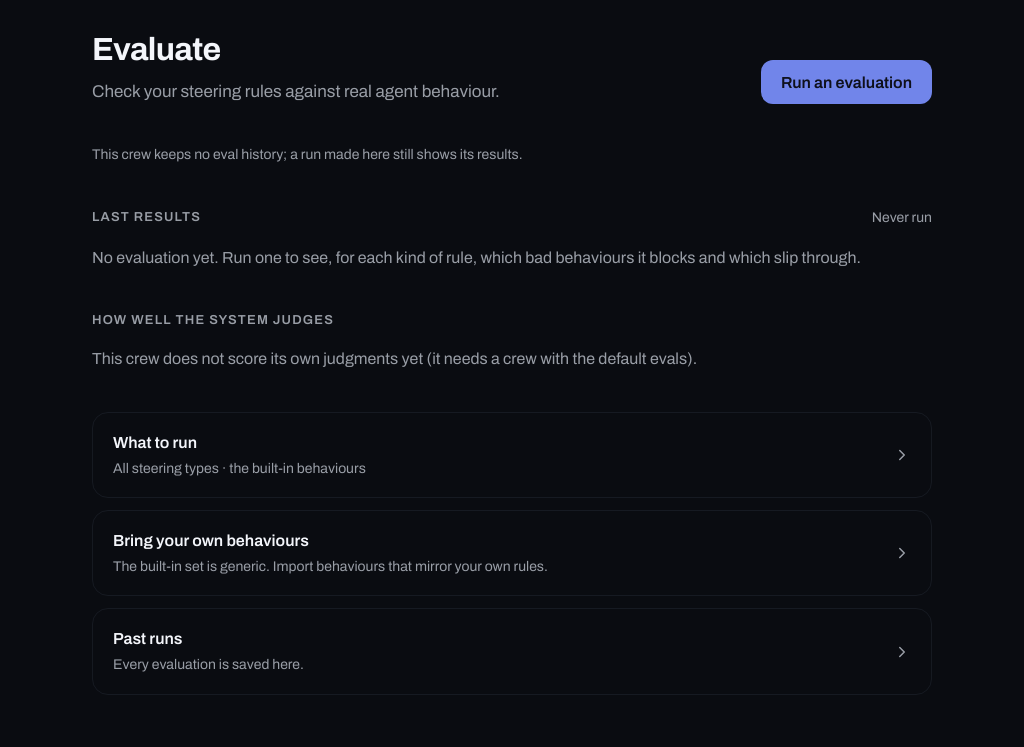
Test case: Evals — the run › POSTs {type, corpus} exactly as pinned and renders summary + table from the report
Type and corpus sit behind the Run tile's "Type and corpus" (DES-steer-eval §3.1).
Step 1. Click the heading with test id "evaluate-options-toggle" → {"x": 155, "y": 442}, box left=113, top=434, right=911, bottom=476
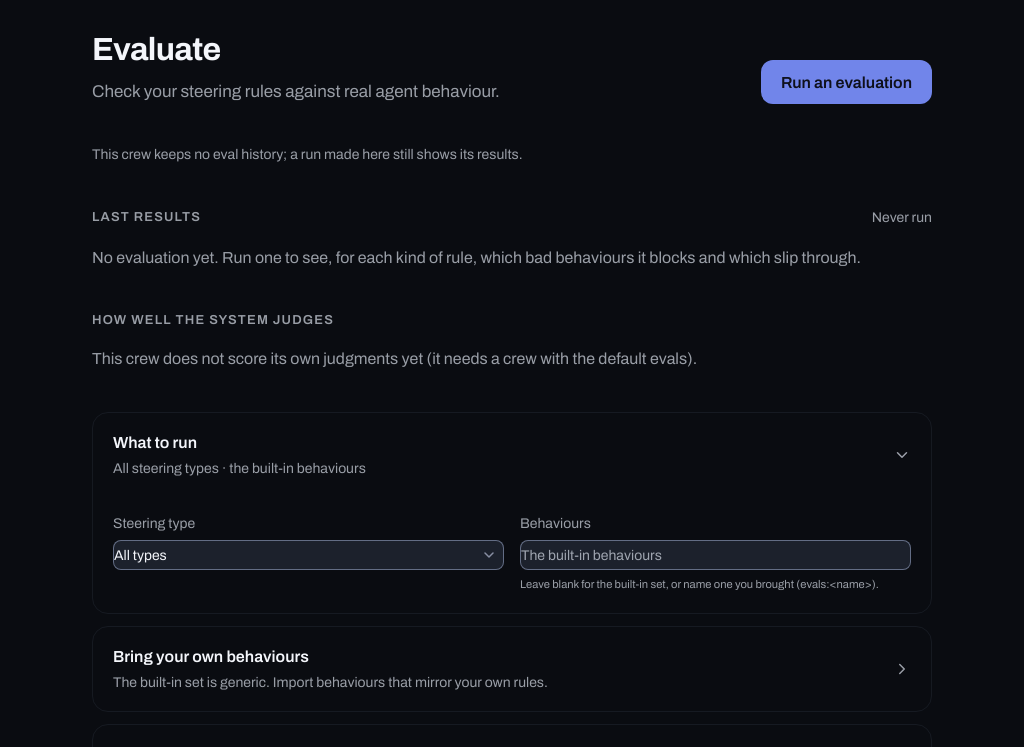
Step 2. Select "Security" in the dropdown with test id "testing-evals-type" → {"x": 308, "y": 555}, box left=113, top=540, right=504, bottom=570
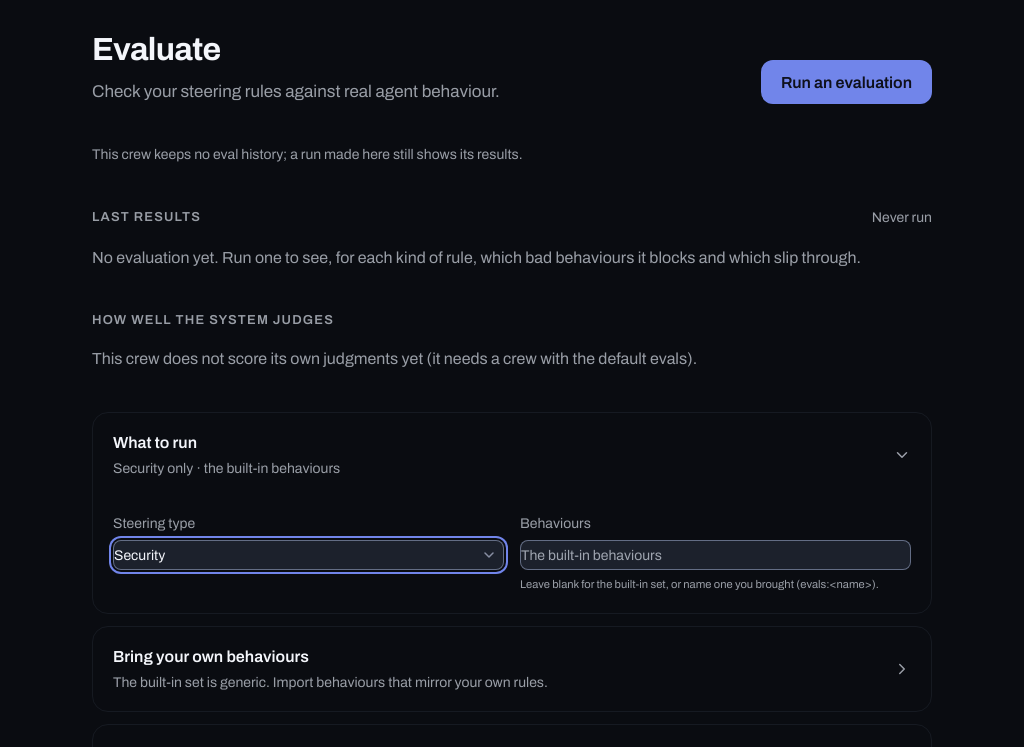
Step 3. Type "evals:dev-behaviors" into the field with test id "testing-evals-corpus" → {"x": 716, "y": 555}, box left=520, top=540, right=911, bottom=570
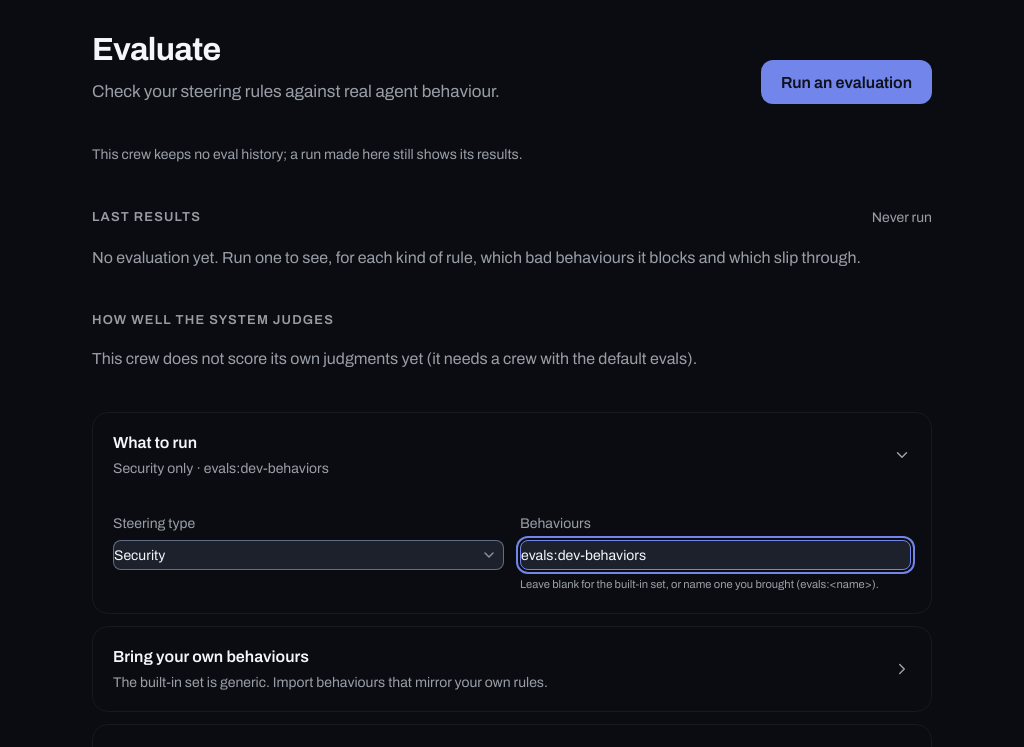
Step 4. Click the button with test id "testing-evals-run" → {"x": 846, "y": 82}, box left=761, top=60, right=932, bottom=104
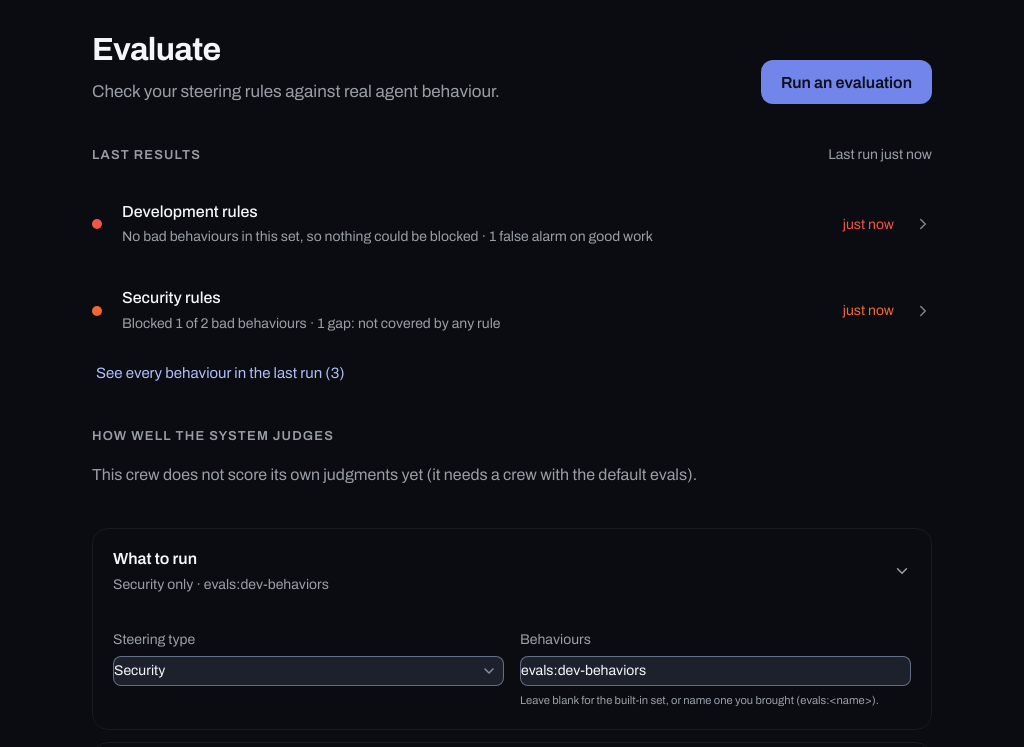
The run's behaviours live behind "See every behaviour" (the page leads with one row per type).
Step 5. Click the button with test id "evaluate-all-behaviours" → {"x": 220, "y": 373}, box left=92, top=360, right=349, bottom=387
(page scrolled)
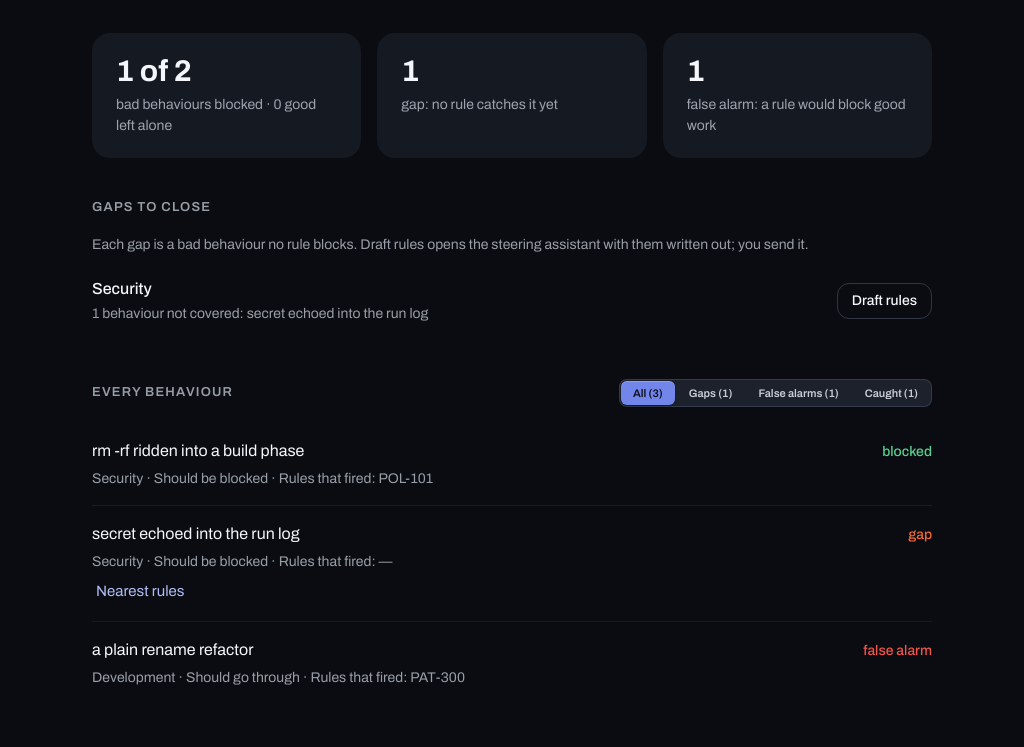
Now the list item with test id "testing-evals-row" shows "blocked", box left=882, top=444, right=932, bottom=459
Now the list item with test id "testing-evals-row" shows "POL-101", box left=279, top=471, right=433, bottom=486
Now the list item with test id "testing-evals-row" shows "—", box left=279, top=554, right=392, bottom=569
